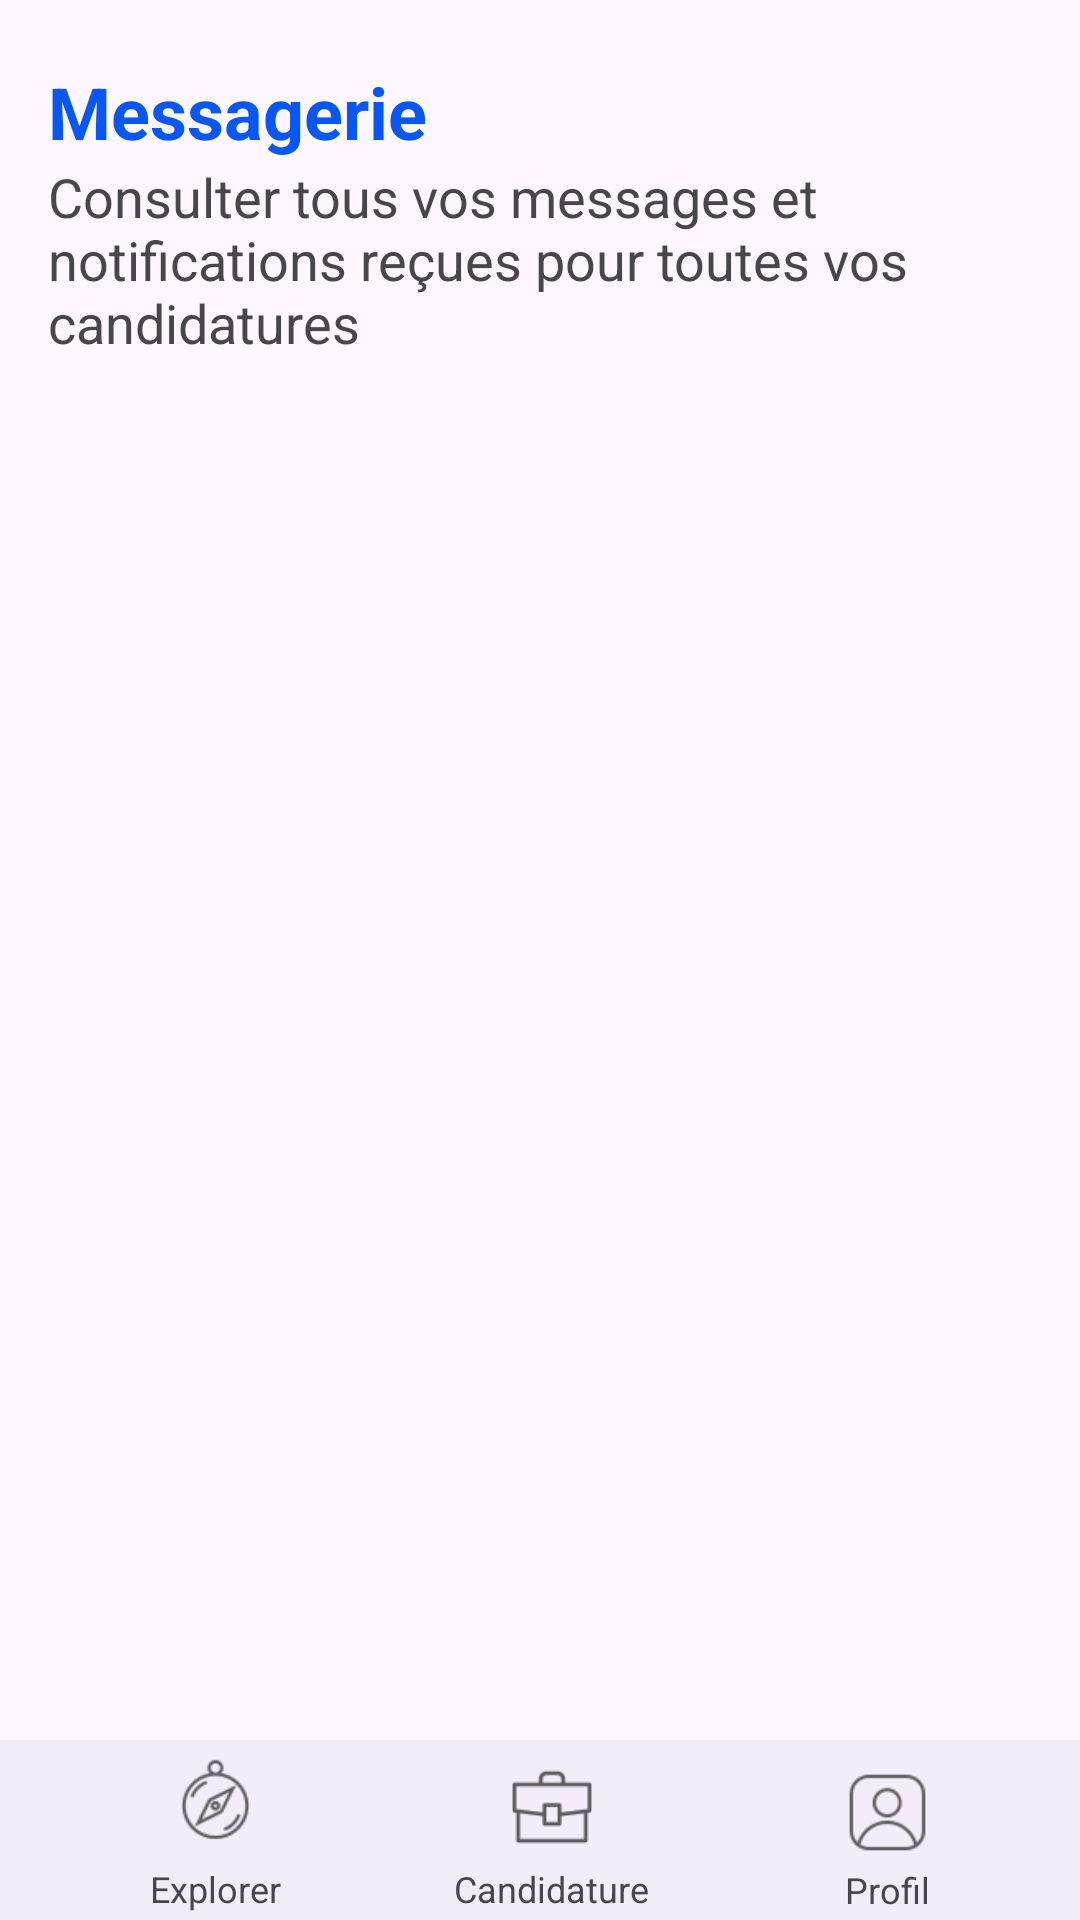

Point at icon controls on the screen. Image size 1080w x 1920h, points as (x=x, y=y).
compass: (x=215, y=1799)
user: (x=887, y=1812)
